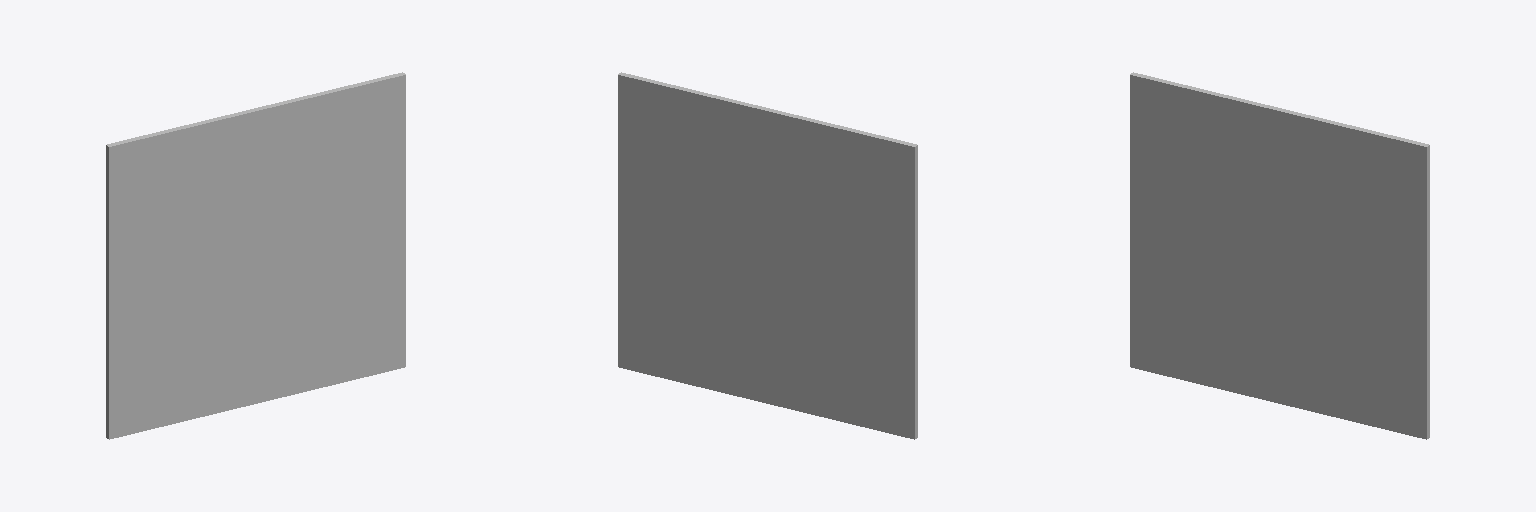
Rendered from PictureFrame.obj.
The picture shows the model from 3 angles: view 1: azimuth 30°, elevation 25°; view 2: azimuth 150°, elevation 25°; view 3: azimuth 330°, elevation 25°; orthographic projection.
Visible parts, largest first — view 1: group[number redacted], group[number redacted]; view 2: group[number redacted], group[number redacted]; view 3: group[number redacted], group[number redacted].
Part boxes in pixels (left/top/right/bottom): group[number redacted]: left=115, top=82, right=399, bottom=431; group[number redacted]: left=106, top=72, right=405, bottom=439; group[number redacted]: left=624, top=82, right=908, bottom=431; group[number redacted]: left=618, top=72, right=917, bottom=439; group[number redacted]: left=1136, top=82, right=1420, bottom=431; group[number redacted]: left=1130, top=72, right=1429, bottom=439.
Bounding box in the file's own units: 1.03 × 0.97 × 0.02.